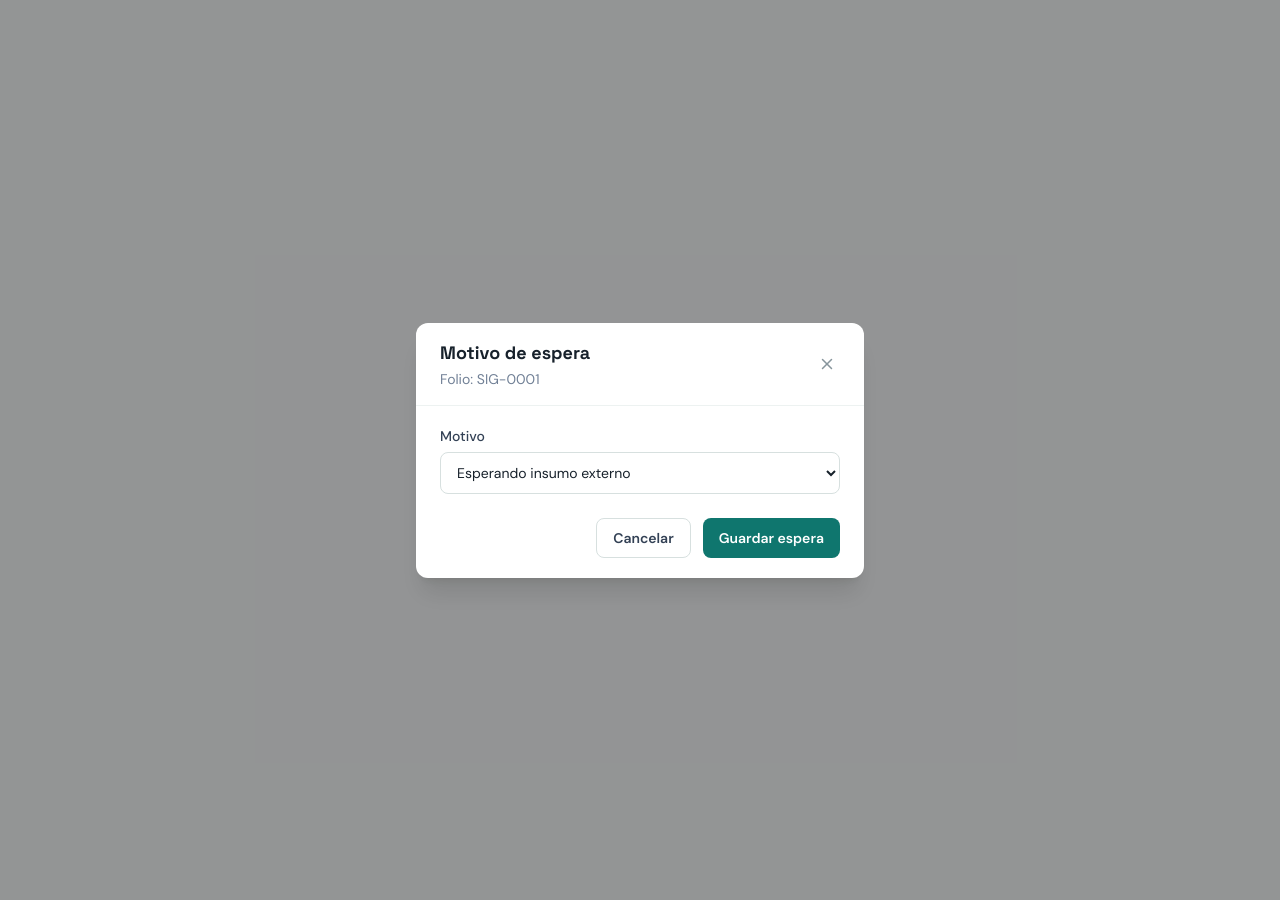
Test case: EsperaDialog: motivo de espera (S3-16, HU-04.2) › cuando la API falla muestra el mensaje de error y no cierra
The image size is (1280, 900).
Click the button "Guardar espera". click: (771, 538)
box: [703, 518, 840, 558]
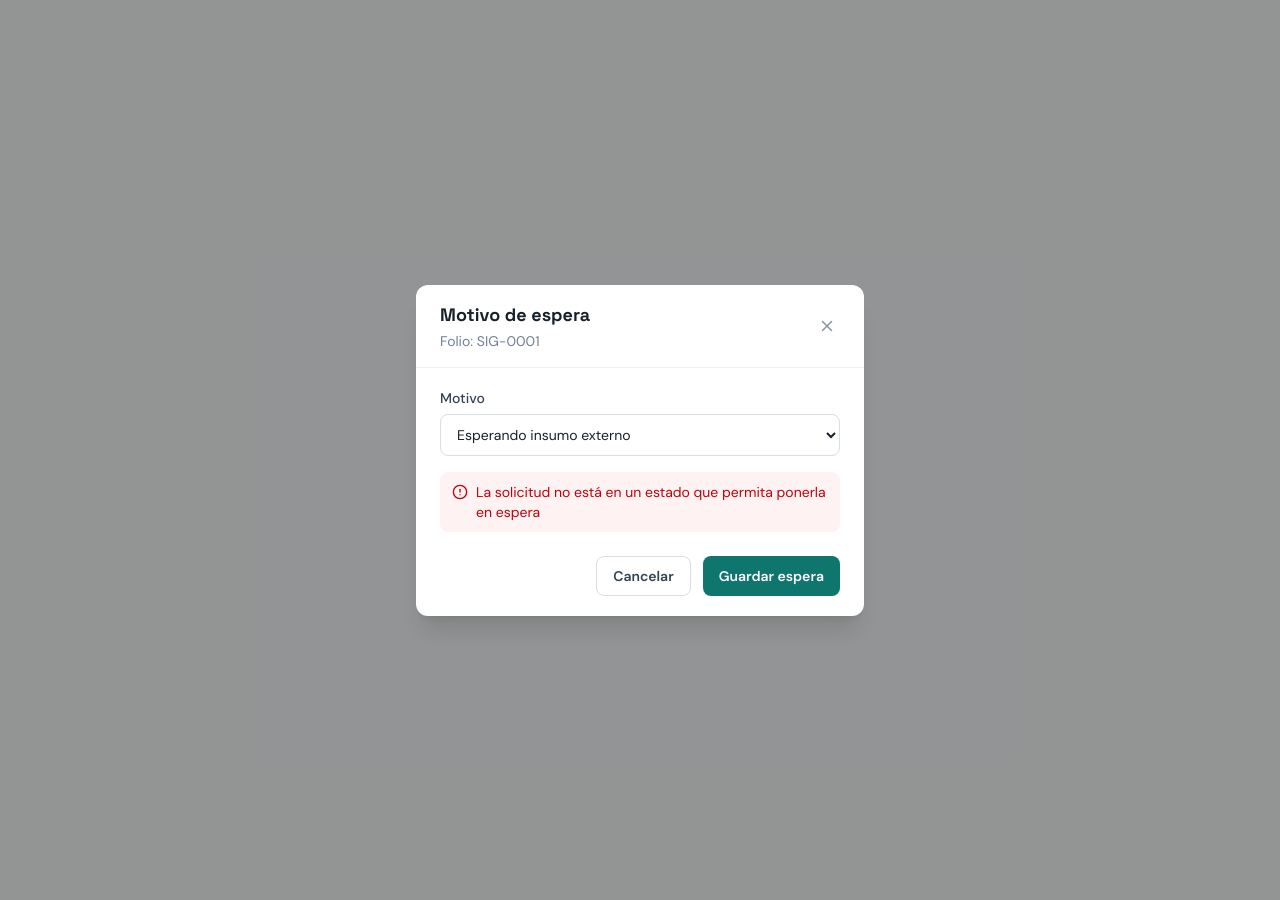
Expected: the heading "Motivo de espera" is shown, [440, 300, 590, 328]
Result: the text "La solicitud no está en un estado que permita ponerla en espera" is shown at [476, 482, 828, 522]
